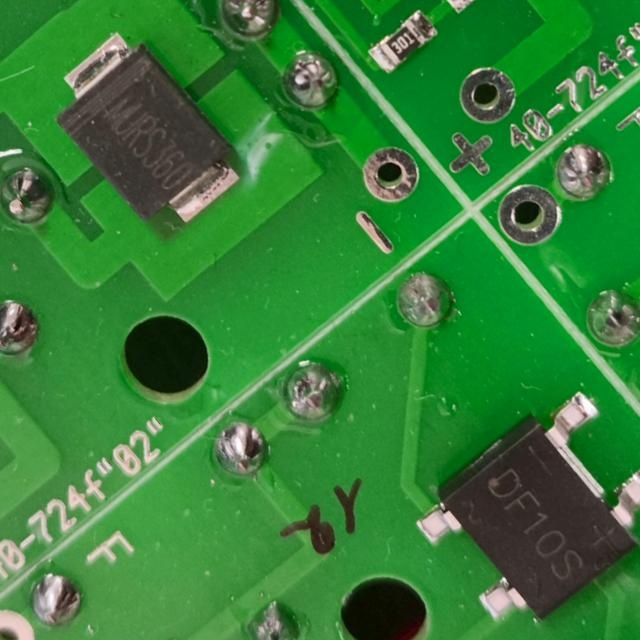chip-resistor: (361, 5, 442, 80)
diode: (31, 18, 253, 252)
ic: (398, 372, 640, 640)
